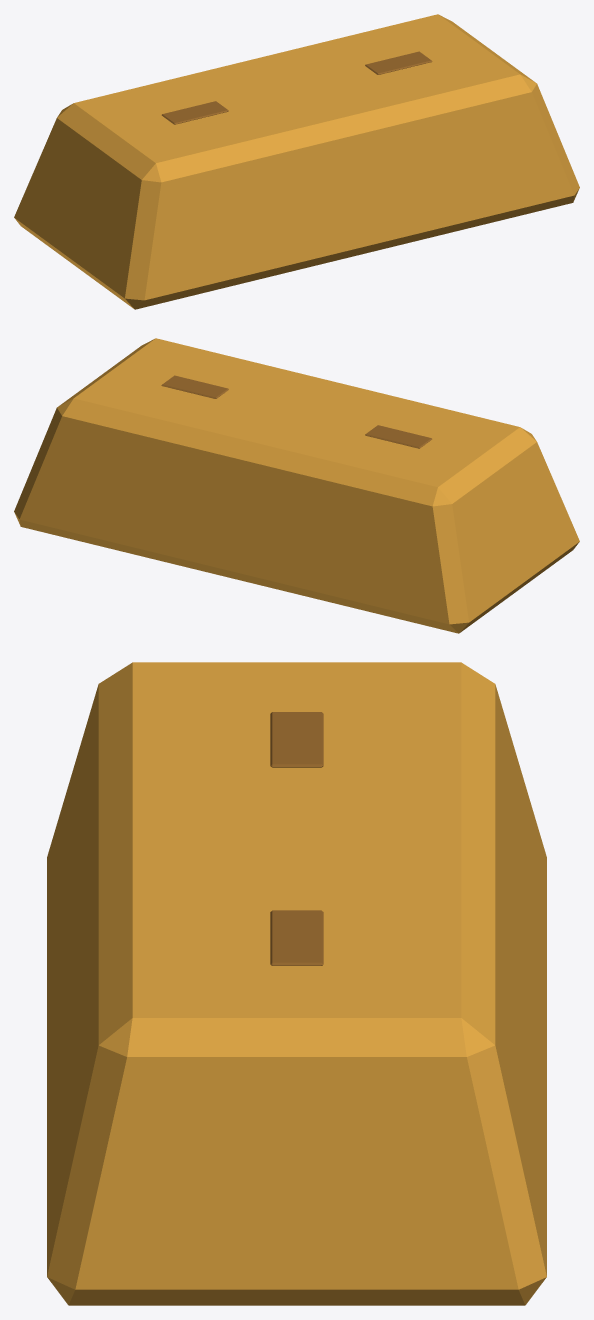
Rendered from cast_ingot.glb.
3 views of the same model, one above another, from view 1: azimuth 30°, elevation 25°; view 2: azimuth 150°, elevation 25°; view 3: azimuth 270°, elevation 25° (orthographic). The views are drawn at different scales.
Parts seen in each view (by area): view 1: cast_ingot_Finish_CastGold, cast_ingot_Finish_OldBrass; view 2: cast_ingot_Finish_CastGold, cast_ingot_Finish_OldBrass; view 3: cast_ingot_Finish_CastGold, cast_ingot_Finish_OldBrass.
Part boxes in pixels (x1,y1,x2,y2): cast_ingot_Finish_CastGold: (14, 14, 579, 309); cast_ingot_Finish_OldBrass: (161, 51, 432, 124); cast_ingot_Finish_CastGold: (14, 338, 579, 633); cast_ingot_Finish_OldBrass: (161, 375, 432, 448); cast_ingot_Finish_CastGold: (47, 662, 546, 1305); cast_ingot_Finish_OldBrass: (270, 712, 323, 965).
Bounding box in the file's own units: 0.4924 × 0.1315 × 0.2342.
